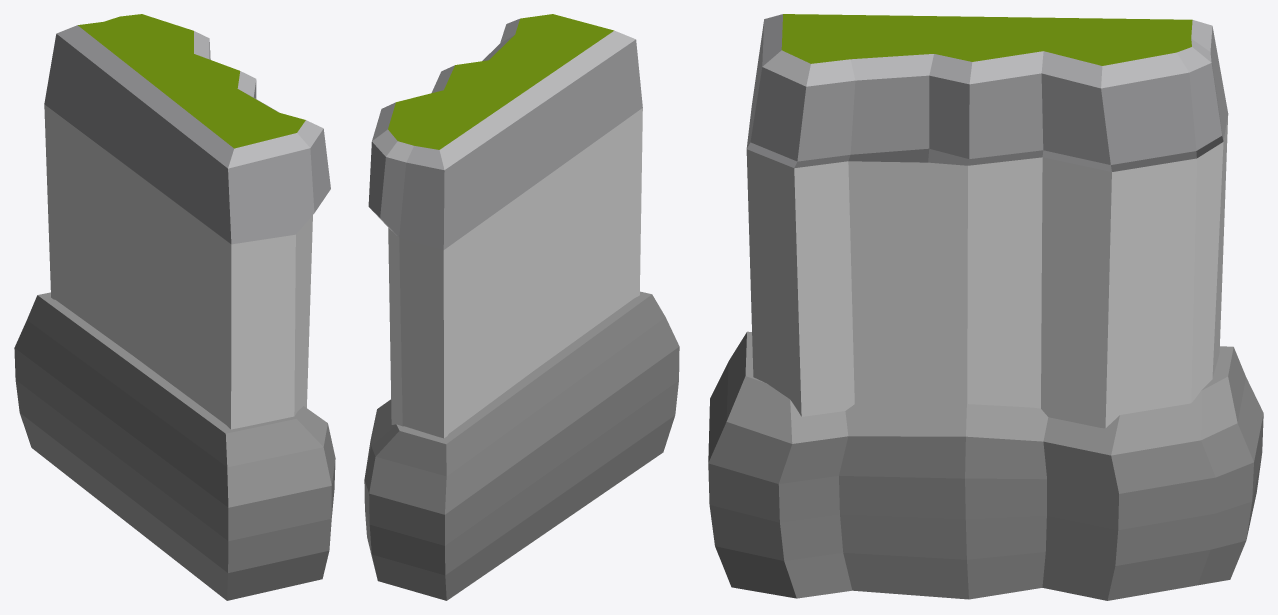
File: Cliff1FlatShadedEdged.fbx
3 views of the same model, side by side, from view 1: azimuth 30°, elevation 25°; view 2: azimuth 150°, elevation 25°; view 3: azimuth 270°, elevation 25° (orthographic). The views are drawn at different scales.
Visible parts, largest first — view 1: Plane.003; view 2: Plane.003; view 3: Plane.003.
Part boxes in pixels (x1=…): Plane.003: x1=14, y1=14, x2=335, y2=600; Plane.003: x1=364, y1=14, x2=679, y2=600; Plane.003: x1=708, y1=14, x2=1263, y2=600.
Size of the model in its own units: 672 by 1941 by 1827.
